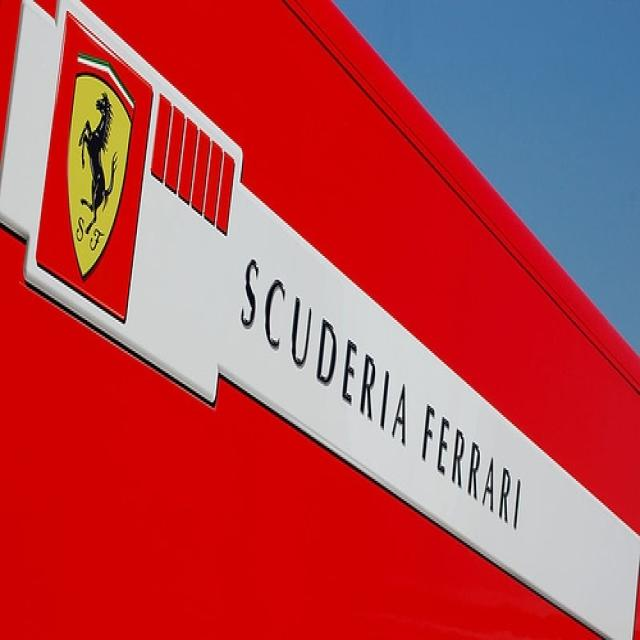ferrari: (69, 54, 137, 281)
